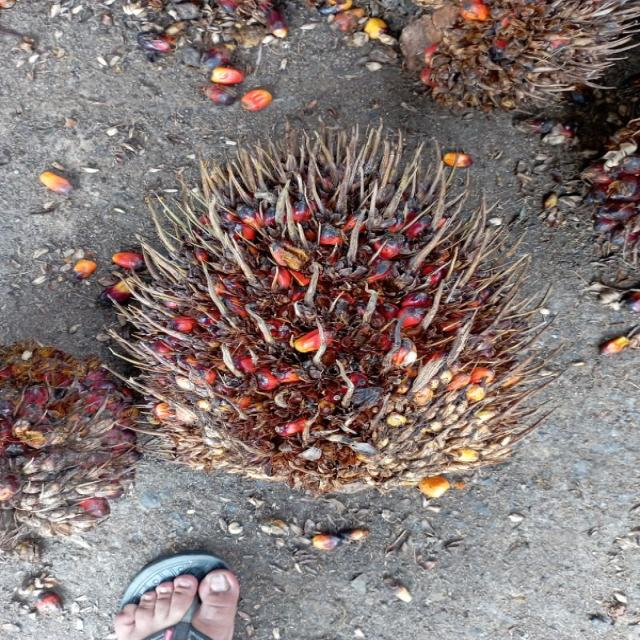fraksi 4: (90, 112, 593, 546)
